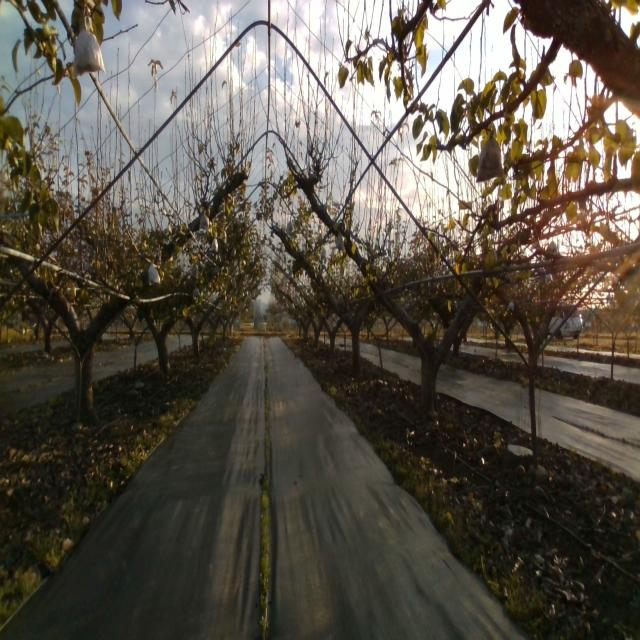pearbags: (71, 28, 106, 78), (476, 128, 504, 182), (148, 260, 161, 286), (334, 232, 346, 256), (199, 210, 209, 231)
